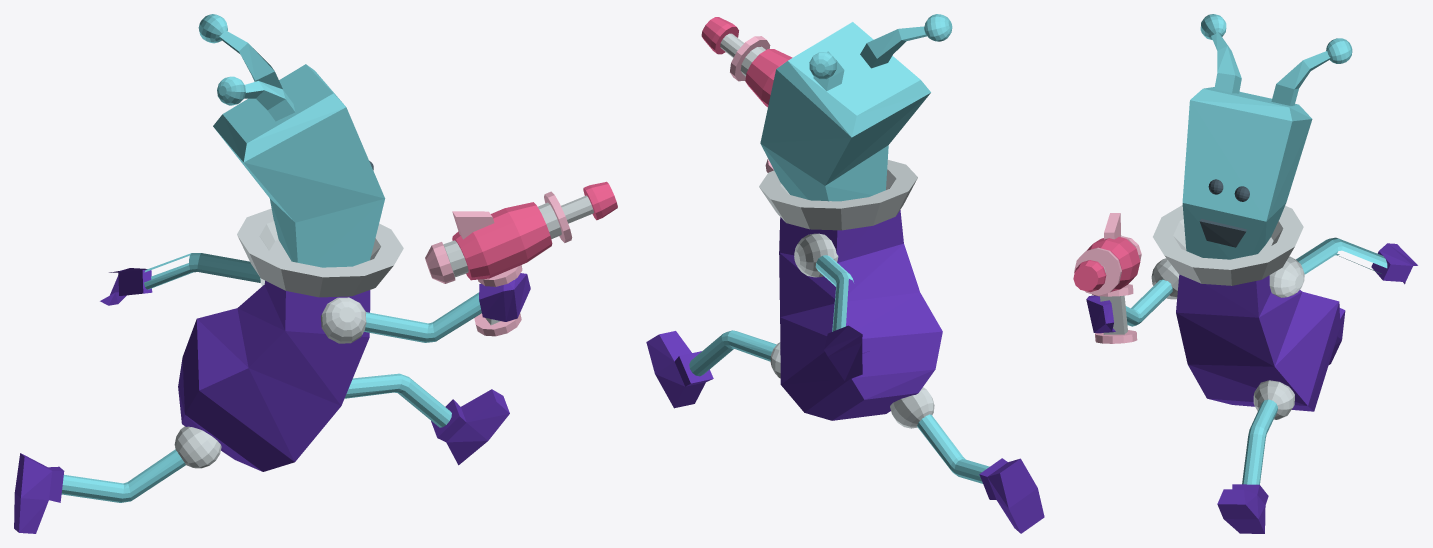
The model's file is scene_U8RTfUGseo.glb.
3 views of the same model, side by side, from view 1: azimuth 30°, elevation 25°; view 2: azimuth 150°, elevation 25°; view 3: azimuth 270°, elevation 25° (orthographic). The views are drawn at different scales.
Visible parts, largest first — view 1: Node; view 2: Node; view 3: Node.
Part boxes in pixels (x1,y1,x2,y2): Node: (14,14,617,533); Node: (646,14,1044,533); Node: (1073,14,1417,533).
Bounding box in the file's own units: 0.9326 × 0.864 × 0.6492.
